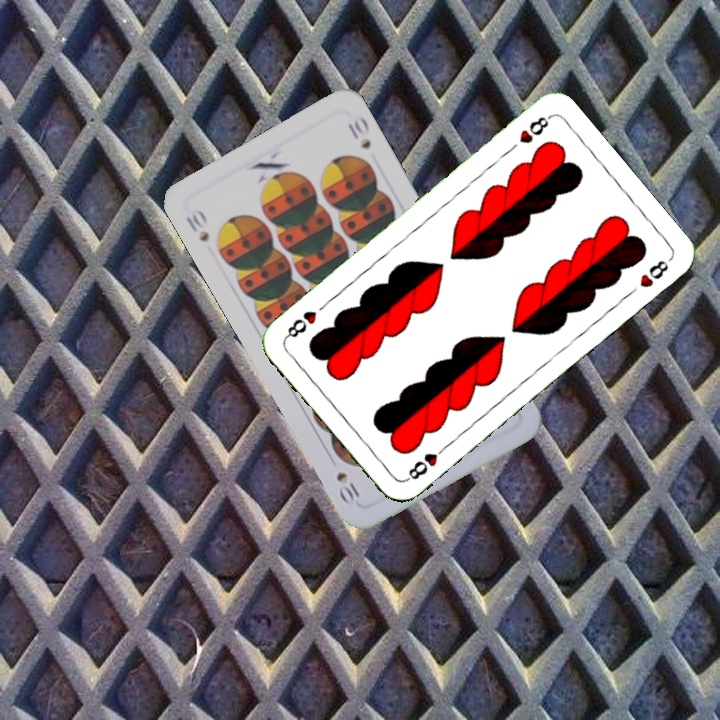H8: (401, 440, 451, 484), (515, 111, 554, 146)
S10: (181, 205, 212, 245)
